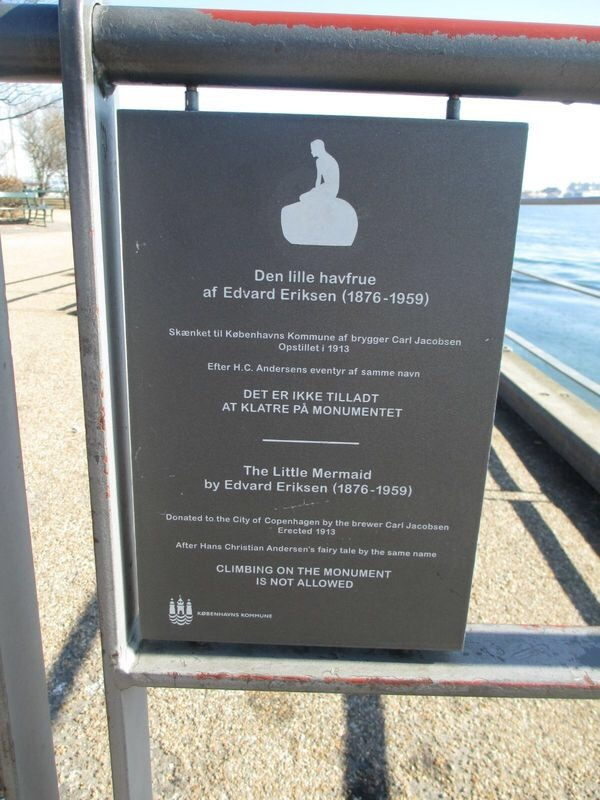text: (337, 289, 352, 307), (353, 289, 368, 307), (369, 289, 384, 307), (385, 289, 400, 307), (401, 289, 416, 307), (417, 289, 432, 307), (204, 477, 219, 493), (253, 269, 268, 284), (269, 269, 284, 284), (316, 271, 331, 286), (332, 271, 347, 286), (348, 271, 363, 286), (364, 271, 379, 286), (276, 288, 291, 303), (292, 288, 307, 303), (308, 288, 323, 303), (324, 288, 339, 303), (266, 464, 281, 479), (282, 464, 297, 479), (298, 464, 313, 479), (324, 483, 339, 498), (340, 483, 355, 498), (356, 483, 371, 498), (372, 483, 387, 498), (388, 483, 403, 498), (404, 483, 419, 498), (217, 286, 232, 300), (233, 286, 248, 300), (249, 286, 264, 300), (265, 286, 280, 300), (241, 402, 256, 416), (257, 402, 272, 416), (273, 402, 288, 416), (310, 406, 325, 420), (326, 406, 341, 420), (342, 406, 357, 420), (358, 406, 373, 420), (374, 406, 389, 420), (390, 406, 405, 420), (286, 271, 301, 284), (302, 271, 317, 284), (202, 286, 217, 299), (321, 392, 336, 405), (337, 392, 352, 405), (353, 392, 368, 405), (369, 392, 384, 405), (240, 464, 255, 477), (256, 464, 271, 477), (273, 390, 288, 402), (293, 404, 308, 416), (310, 469, 325, 481), (326, 469, 341, 481), (342, 469, 357, 481), (358, 469, 373, 481), (224, 481, 239, 493), (240, 481, 255, 493), (256, 481, 271, 493), (270, 483, 285, 495), (286, 483, 301, 495), (302, 483, 317, 495), (318, 483, 333, 495), (288, 332, 303, 343), (304, 332, 319, 343), (320, 332, 335, 343), (348, 334, 363, 345), (364, 334, 379, 345), (380, 334, 395, 345), (414, 336, 429, 347), (430, 336, 445, 347), (446, 336, 461, 347), (203, 362, 218, 373), (219, 362, 234, 373), (304, 367, 319, 378), (320, 367, 335, 378), (336, 367, 351, 378), (240, 389, 255, 400), (256, 389, 271, 400), (213, 402, 228, 413), (229, 402, 244, 413), (226, 516, 241, 527), (242, 516, 257, 527), (260, 518, 275, 529), (276, 518, 291, 529), (292, 518, 307, 529), (308, 518, 323, 529), (213, 565, 228, 576), (229, 565, 244, 576), (245, 565, 260, 576), (261, 565, 276, 576), (293, 567, 308, 578), (309, 567, 324, 578), (319, 569, 334, 580), (335, 569, 350, 580), (351, 569, 366, 580), (367, 569, 382, 580), (383, 569, 398, 580), (254, 578, 269, 589), (267, 578, 282, 589), (283, 578, 298, 589), (293, 579, 308, 590), (309, 579, 324, 590), (325, 579, 340, 590), (341, 579, 356, 590), (166, 328, 181, 338), (182, 328, 197, 338), (198, 328, 213, 338), (224, 329, 239, 339), (240, 329, 255, 339), (256, 329, 271, 339), (272, 329, 287, 339), (291, 392, 306, 402), (307, 392, 322, 402), (159, 513, 174, 523), (175, 513, 190, 523), (191, 513, 206, 523), (249, 517, 264, 527), (320, 520, 335, 530), (404, 523, 419, 533), (420, 523, 435, 533), (436, 523, 451, 533), (259, 545, 274, 555), (275, 545, 290, 555), (291, 545, 306, 555), (307, 545, 322, 555), (313, 547, 328, 557), (329, 547, 344, 557), (331, 548, 346, 558), (347, 548, 362, 558), (370, 548, 385, 558), (210, 330, 225, 339), (336, 334, 351, 343), (386, 336, 401, 345), (402, 336, 417, 345), (227, 363, 242, 372), (243, 363, 258, 372), (251, 365, 266, 374), (267, 365, 282, 374), (283, 365, 298, 374), (299, 365, 314, 374), (334, 520, 349, 529), (352, 521, 367, 530), (368, 521, 383, 530), (310, 528, 325, 537), (326, 528, 341, 537), (356, 549, 371, 558), (355, 370, 370, 378), (371, 370, 386, 378), (387, 370, 402, 378), (393, 371, 408, 379), (409, 371, 424, 379), (379, 522, 394, 530), (395, 522, 410, 530), (272, 527, 287, 535), (288, 527, 303, 535), (304, 527, 319, 535), (170, 543, 185, 551), (186, 543, 201, 551), (195, 543, 210, 551), (211, 543, 226, 551), (221, 544, 236, 552), (237, 544, 252, 552), (253, 544, 268, 552), (384, 551, 399, 559), (400, 551, 415, 559), (410, 551, 425, 559), (426, 551, 441, 559), (270, 568, 285, 576), (286, 568, 301, 576), (195, 612, 210, 620), (211, 612, 226, 620), (227, 612, 242, 620), (243, 612, 258, 620), (259, 612, 274, 620), (202, 516, 217, 523), (215, 516, 230, 523)
